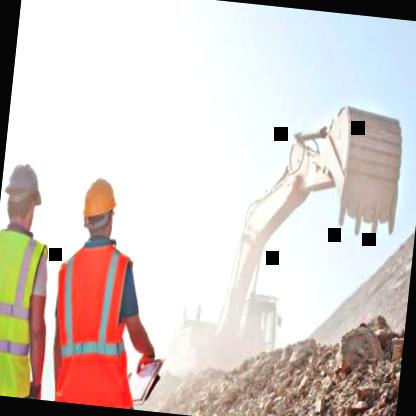helmet: (0, 144, 48, 240), (74, 163, 122, 255)
